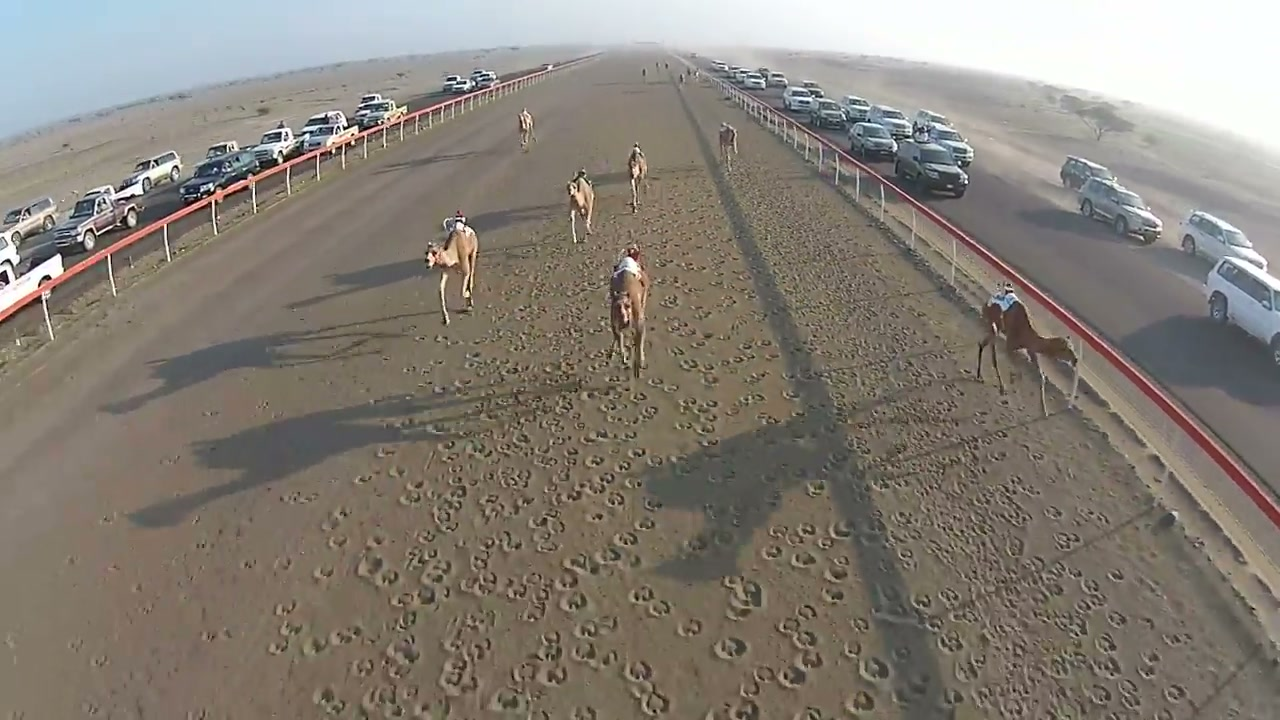animal_footprint: (85, 83, 1248, 719), (311, 256, 833, 716)
